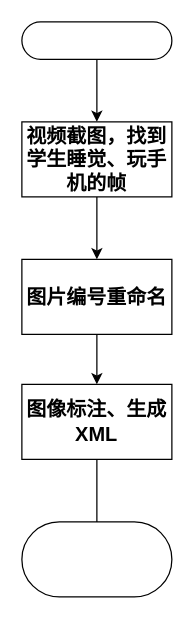
This 194x619 diagram has some shape labels left out. The shapes that lost their labels are listed below. From the top down, each one's box as (x1, y1, x2, y2) in pixels, then its label:
(21, 21, 172, 59): 导入监控视频
(21, 521, 172, 597): 导入VOC数据集 文件模板
